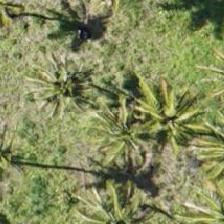coconut_tree: (124, 70, 214, 160), (22, 39, 112, 129)
